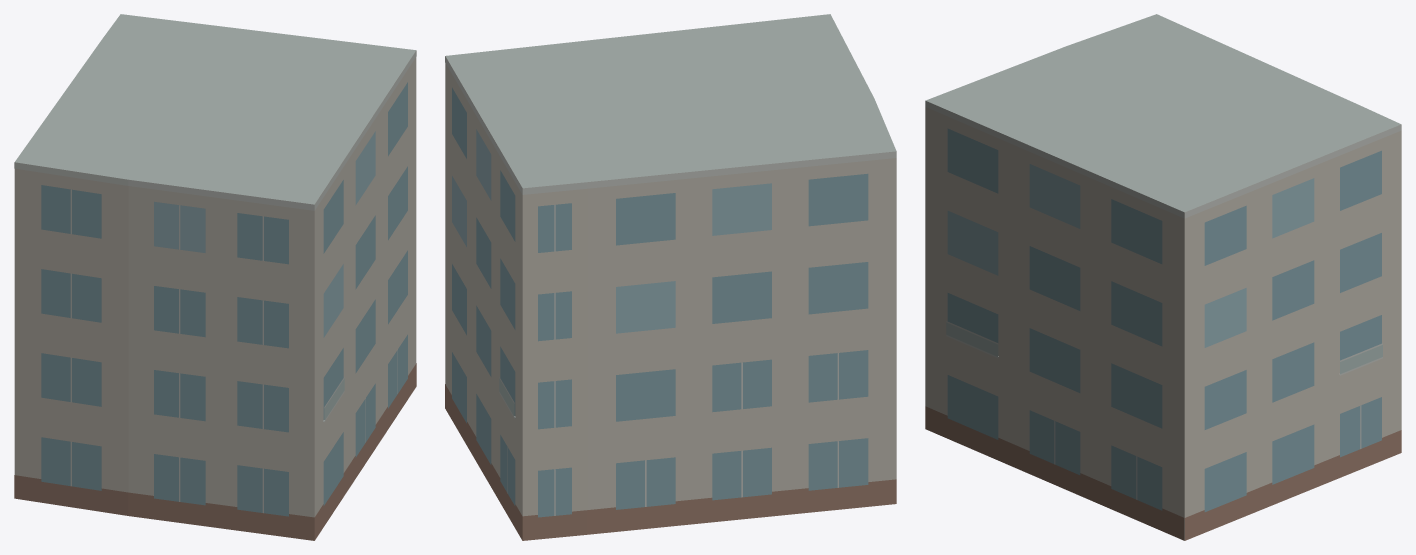
File: survey-upis-32903363.glb
3 renders of one model, left to right at view 1: azimuth 30°, elevation 25°; view 2: azimuth 150°, elevation 25°; view 3: azimuth 270°, elevation 25°, orthographic. The views are drawn at different scales.
Parts seen in each view (by area): view 1: survey-upis-32903363.tmp; view 2: survey-upis-32903363.tmp; view 3: survey-upis-32903363.tmp.
Boxes of the visible parts, box(x1,y1,x2,y2) form: survey-upis-32903363.tmp: box(14, 14, 416, 540); survey-upis-32903363.tmp: box(445, 14, 896, 540); survey-upis-32903363.tmp: box(925, 14, 1401, 540).
Size of the model in its own units: 16.85 by 13 by 17.09.
